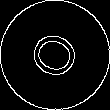O_SE: (23, 25, 87, 85)
